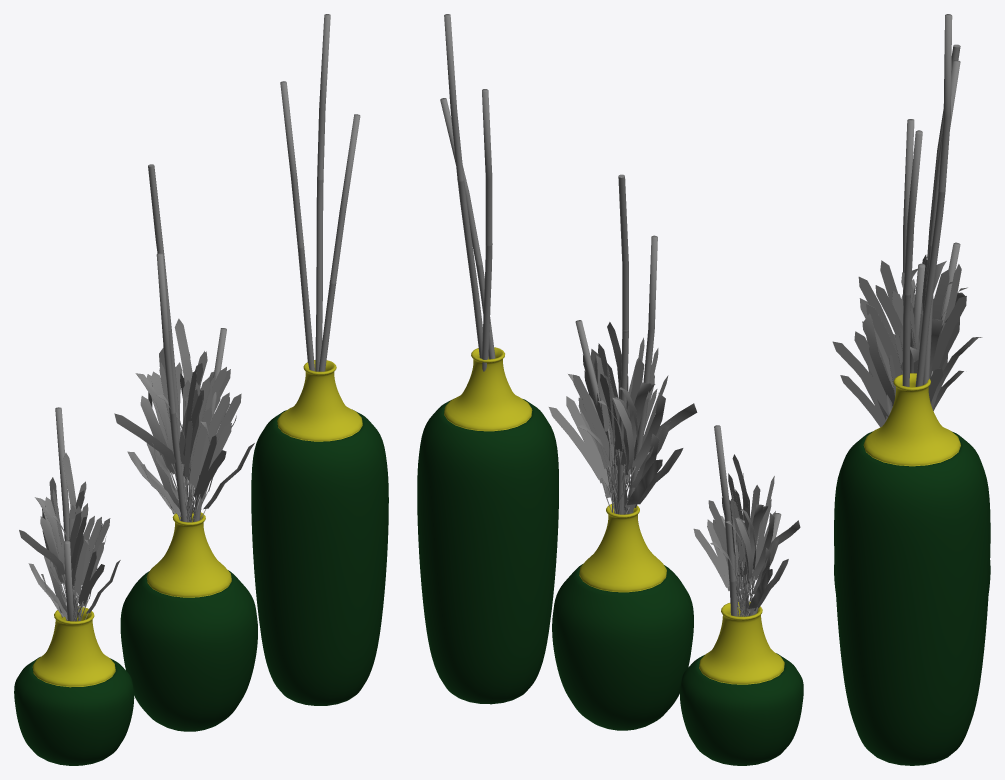
Rendered from VAzolar.FBX.
3 views of the same model, side by side, from view 1: azimuth 30°, elevation 25°; view 2: azimuth 150°, elevation 25°; view 3: azimuth 270°, elevation 25° (orthographic). The views are drawn at different scales.
Parts seen in each view (by area): view 1: VaseLong, VaseMiddle, VaseSmall, Dry_Flower, Dry_Flower001, Cylinder004, Cylinder005, Cylinder001, Cylinder006, Cylinder002, Cylinder007; view 2: VaseLong, VaseMiddle, VaseSmall, Dry_Flower, Dry_Flower001, Cylinder004, Cylinder002, Cylinder005, Cylinder001, Cylinder007, Cylinder006, Cylinder003; view 3: VaseLong, Dry_Flower, Cylinder004, Cylinder006, Cylinder005, Dry_Flower001, Cylinder001, Cylinder003, Cylinder002, Cylinder007.
Boxes of the visible parts, box(x1,y1,x2,y2) form: VaseLong: box(251, 360, 388, 705); VaseMiddle: box(120, 512, 257, 731); VaseSmall: box(14, 606, 134, 765); Dry_Flower: box(114, 318, 254, 522); Dry_Flower001: box(19, 452, 120, 621); Cylinder004: box(315, 14, 330, 371); Cylinder005: box(280, 81, 314, 371); Cylinder001: box(156, 253, 187, 522); Cylinder006: box(318, 114, 360, 371); Cylinder002: box(148, 164, 187, 514); Cylinder007: box(55, 407, 69, 540); VaseLong: box(417, 347, 558, 704); VaseMiddle: box(552, 503, 693, 730); VaseSmall: box(680, 602, 803, 765); Dry_Flower: box(549, 322, 697, 514); Dry_Flower001: box(693, 454, 800, 616); Cylinder004: box(444, 14, 482, 358); Cylinder002: box(617, 174, 628, 514); Cylinder005: box(482, 89, 492, 371); Cylinder001: box(626, 235, 657, 514); Cylinder007: box(714, 425, 737, 616); Cylinder006: box(440, 98, 495, 359); Cylinder003: box(575, 320, 616, 513); VaseLong: box(834, 373, 990, 765); Dry_Flower: box(832, 254, 982, 415); Cylinder004: box(915, 14, 952, 386); Cylinder006: box(902, 130, 922, 386); Cylinder005: box(923, 60, 960, 386); Dry_Flower001: box(840, 321, 963, 427); Cylinder001: box(903, 119, 914, 305); Cylinder003: box(910, 263, 925, 373); Cylinder002: box(925, 44, 960, 295); Cylinder007: box(939, 242, 960, 325).
Bounding box in the file's own units: 332 × 583 × 111.
